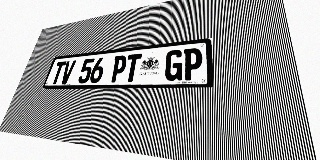5: (77, 58, 95, 83)
6: (88, 57, 107, 83)
G: (164, 49, 184, 81)
P: (182, 47, 202, 80), (109, 55, 128, 82)
T: (123, 53, 142, 82), (50, 61, 67, 84)
V: (59, 60, 76, 84)
